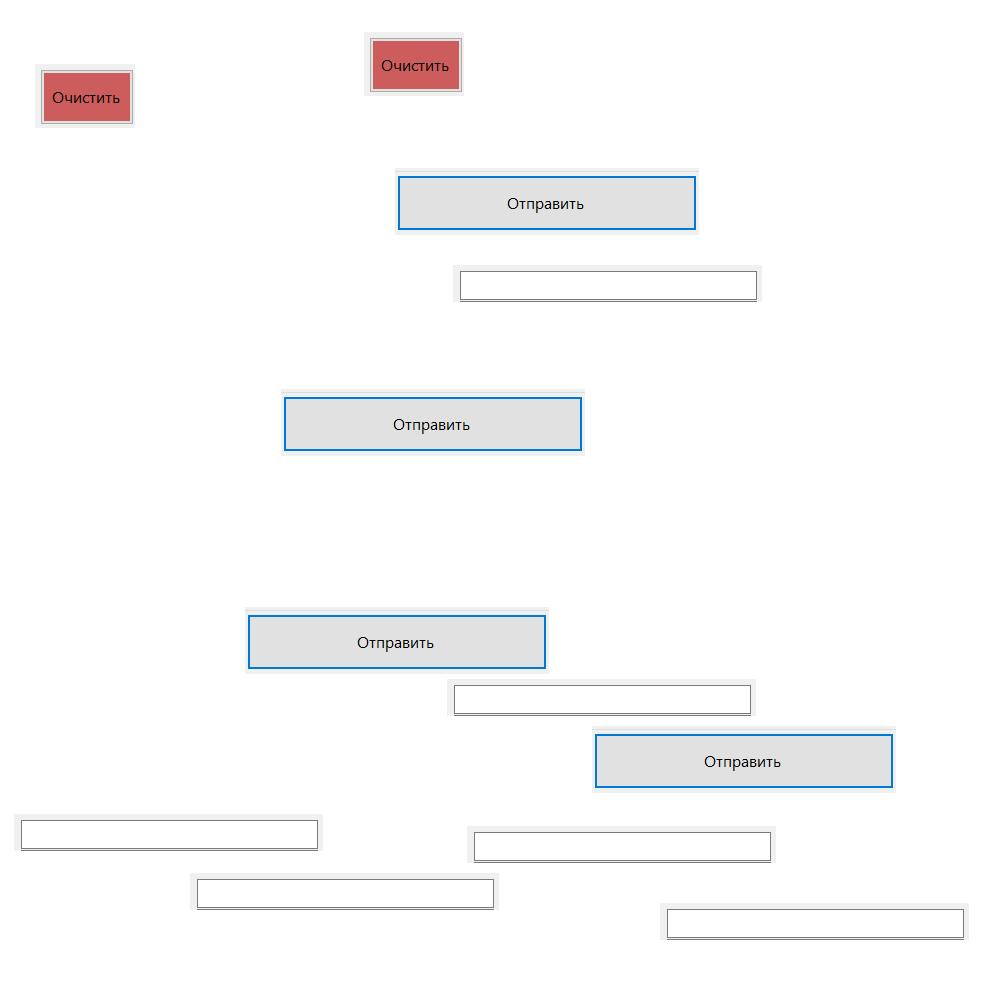Button: (395, 168, 699, 235), (245, 607, 549, 674), (281, 389, 585, 456), (592, 726, 896, 793), (35, 64, 135, 128), (364, 32, 464, 96)
EditText-: (467, 826, 776, 863), (190, 873, 499, 910), (453, 265, 762, 302), (660, 903, 969, 940), (14, 814, 323, 851), (447, 679, 756, 716)
